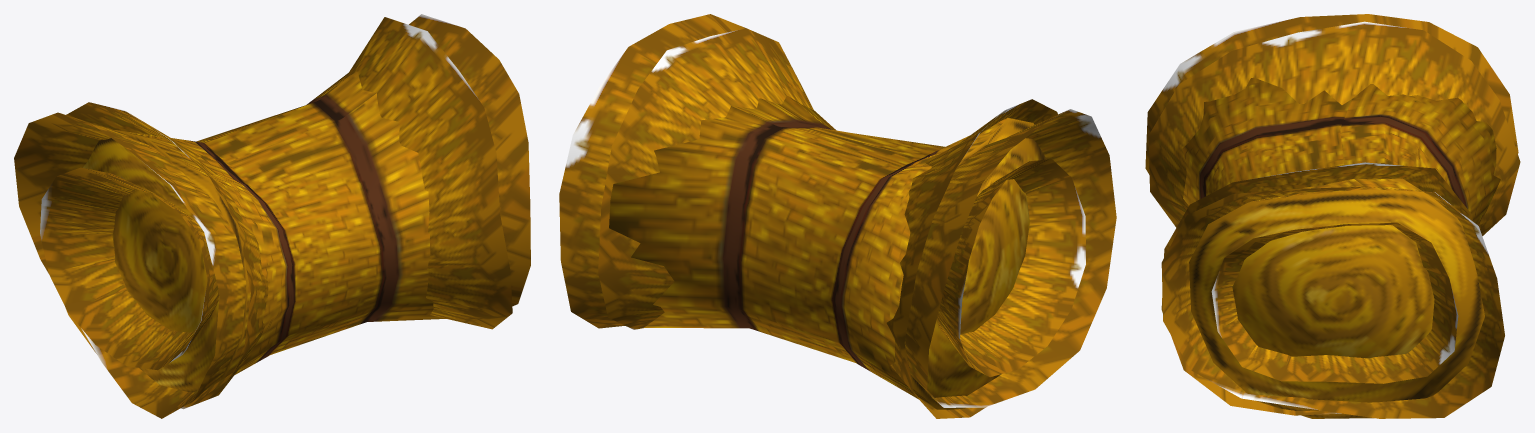
File: SM_PROP_hay_02.glb
The picture shows the model from 3 angles, left to right: view 1: azimuth 30°, elevation 25°; view 2: azimuth 150°, elevation 25°; view 3: azimuth 270°, elevation 25°; orthographic projection. The views are drawn at different scales.
Visible parts, largest first — view 1: SM_PROP_hay_02_EXPORT; view 2: SM_PROP_hay_02_EXPORT; view 3: SM_PROP_hay_02_EXPORT.
Boxes of the visible parts, bbox=[...] form: SM_PROP_hay_02_EXPORT: bbox=[14, 14, 530, 418]; SM_PROP_hay_02_EXPORT: bbox=[559, 14, 1116, 418]; SM_PROP_hay_02_EXPORT: bbox=[1145, 14, 1520, 418].
Bounding box in the file's own units: 0.8853 × 0.6089 × 0.766.
1 material, 1 textured.
